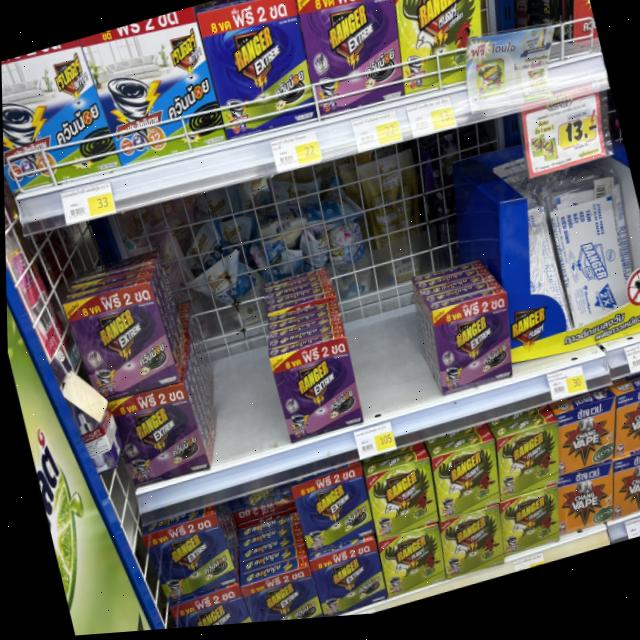empty_shelf: (149, 181, 291, 469), (311, 144, 441, 416), (232, 166, 344, 354), (392, 127, 506, 306), (216, 480, 310, 585)
